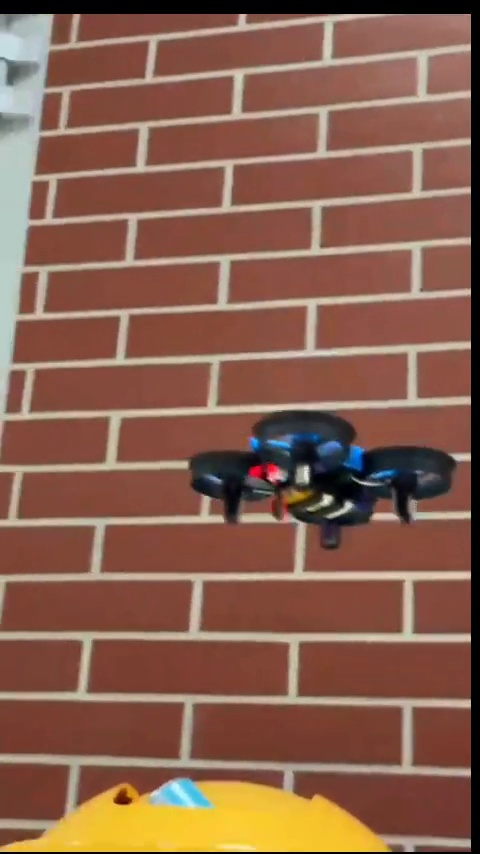drone: (189, 410, 454, 553)
